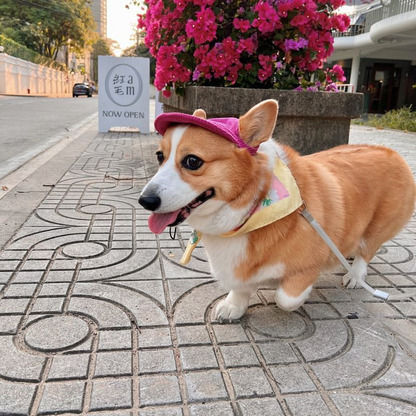Corgi: (138, 104, 401, 320)
